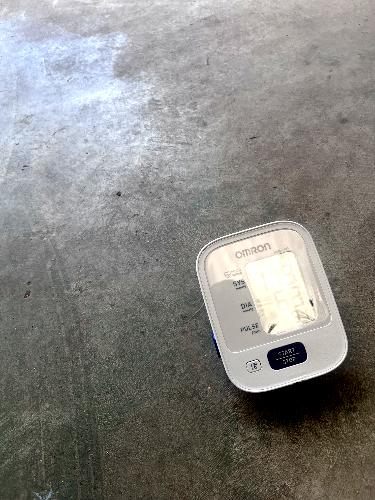bpm: (242, 247, 322, 340)
